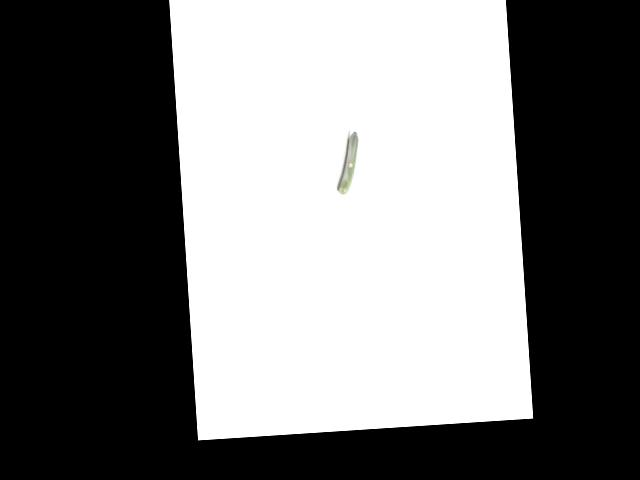cucumber: (334, 131, 361, 195)
